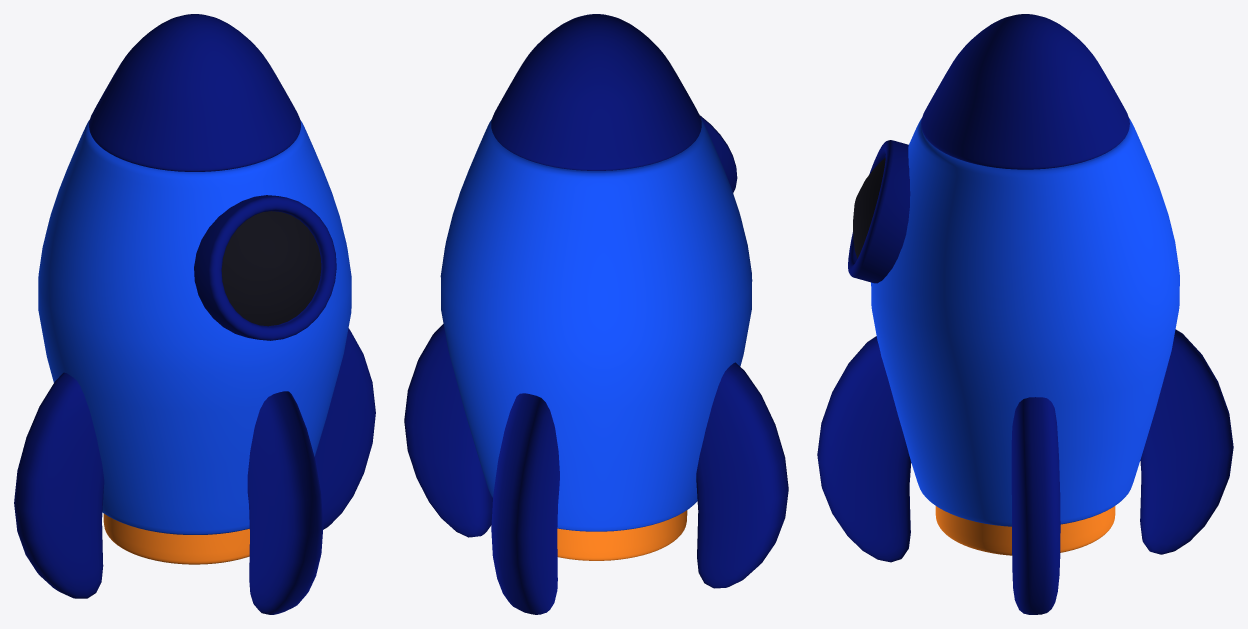
File: lampara.glb
3 views of the same model, side by side, from view 1: azimuth 30°, elevation 25°; view 2: azimuth 150°, elevation 25°; view 3: azimuth 270°, elevation 25° (orthographic).
Parts seen in each view (by area): view 1: imagetostl_mesh0, imagetostl_mesh4, imagetostl_mesh2, imagetostl_mesh1, imagetostl_mesh3; view 2: imagetostl_mesh0, imagetostl_mesh4, imagetostl_mesh2, imagetostl_mesh3; view 3: imagetostl_mesh0, imagetostl_mesh2, imagetostl_mesh4, imagetostl_mesh3, imagetostl_mesh1.
Boxes of the visible parts, left/top/right/bottom form: imagetostl_mesh0: left=38, top=14, right=351, bottom=564; imagetostl_mesh4: left=14, top=328, right=375, bottom=598; imagetostl_mesh2: left=247, top=391, right=323, bottom=614; imagetostl_mesh1: left=221, top=211, right=321, bottom=326; imagetostl_mesh3: left=194, top=195, right=336, bottom=340; imagetostl_mesh0: left=440, top=14, right=752, bottom=560; imagetostl_mesh4: left=404, top=324, right=788, bottom=588; imagetostl_mesh2: left=491, top=393, right=559, bottom=614; imagetostl_mesh3: left=700, top=115, right=737, bottom=192; imagetostl_mesh0: left=871, top=14, right=1179, bottom=555; imagetostl_mesh2: left=817, top=329, right=1233, bottom=562; imagetostl_mesh4: left=1011, top=397, right=1060, bottom=614; imagetostl_mesh3: left=848, top=140, right=910, bottom=283; imagetostl_mesh1: left=853, top=157, right=885, bottom=258.
Size of the model in its own units: 2.23 by 3.18 by 2.23.
